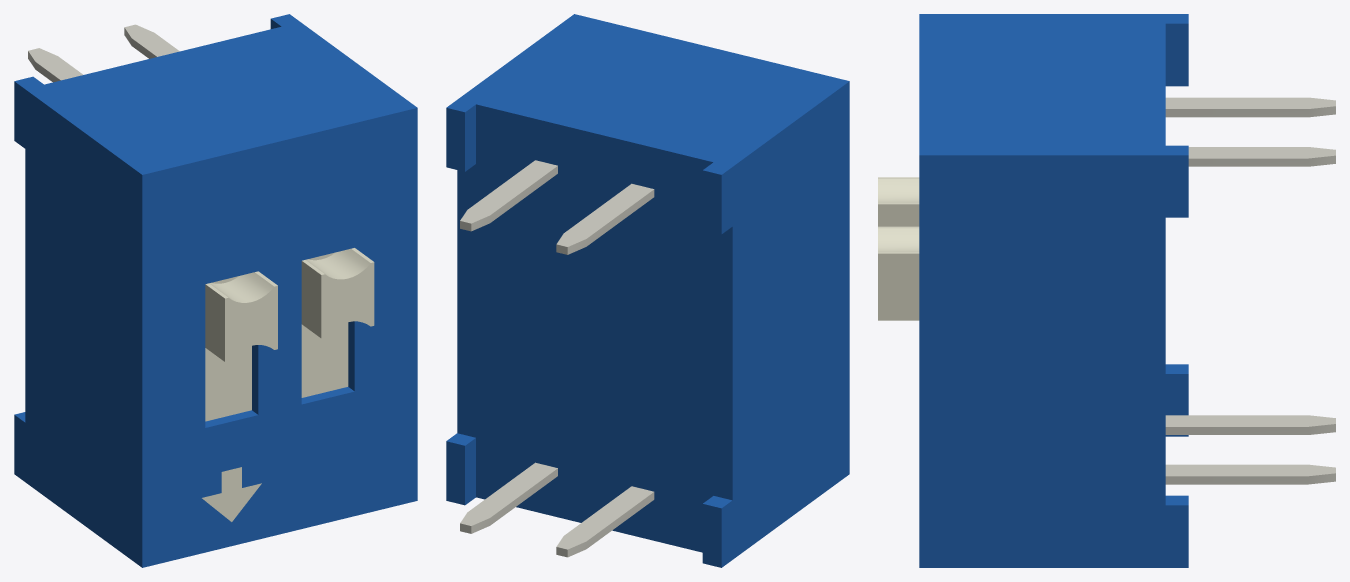
Rendered from dip-switch-2.glb.
3 renders of one model, left to right at view 1: azimuth 30°, elevation 25°; view 2: azimuth 150°, elevation 25°; view 3: azimuth 270°, elevation 25°, orthographic. The views are drawn at different scales.
Visible parts, largest first — view 1: PLASTIC-BLUE-01, PLASTIC-WHITE-01, PIN-01; view 2: PLASTIC-BLUE-01, PIN-01; view 3: PLASTIC-BLUE-01, PIN-01, PLASTIC-WHITE-01.
Part boxes in pixels (box(x1,y1,x2,y2)): PLASTIC-BLUE-01: box(14, 14, 417, 567); PLASTIC-WHITE-01: box(202, 248, 374, 521); PIN-01: box(28, 24, 179, 82); PLASTIC-BLUE-01: box(446, 14, 849, 567); PIN-01: box(460, 160, 654, 557); PLASTIC-BLUE-01: box(919, 14, 1188, 567); PIN-01: box(1165, 97, 1335, 484); PLASTIC-WHITE-01: box(878, 177, 919, 320).
Size of the model in its own units: 7.26 by 9.9 by 9.95.
